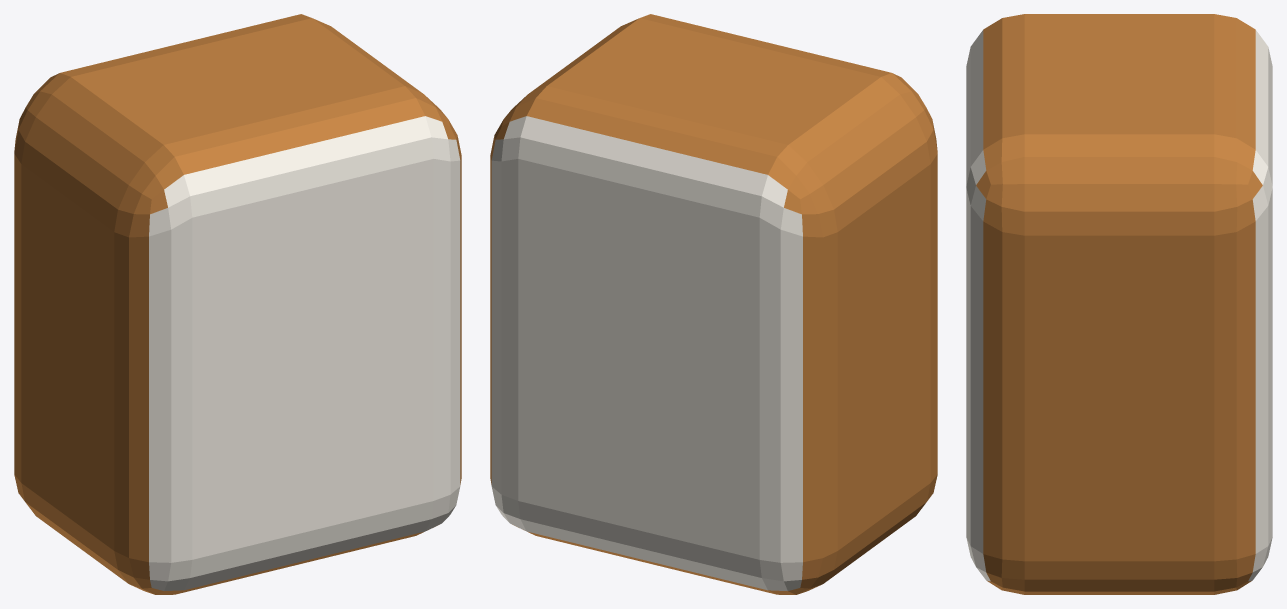
File: bread_loaf.glb
3 renders of one model, left to right at view 1: azimuth 30°, elevation 25°; view 2: azimuth 150°, elevation 25°; view 3: azimuth 270°, elevation 25°, orthographic. The views are drawn at different scales.
Parts seen in each view (by area): view 1: Bread_Loaf; view 2: Bread_Loaf; view 3: Bread_Loaf.
Boxes of the visible parts, bbox=[...] form: Bread_Loaf: bbox=[14, 14, 461, 594]; Bread_Loaf: bbox=[490, 14, 937, 594]; Bread_Loaf: bbox=[966, 14, 1272, 594].
Size of the model in its own units: 0.55 by 0.6882 by 0.42.
